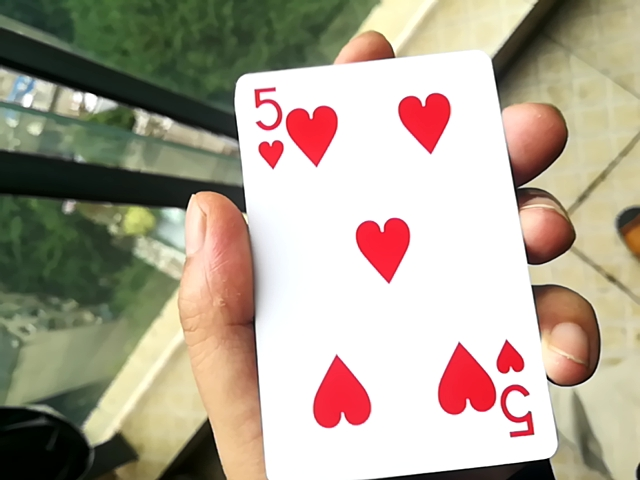hx 5: (216, 52, 554, 480)
